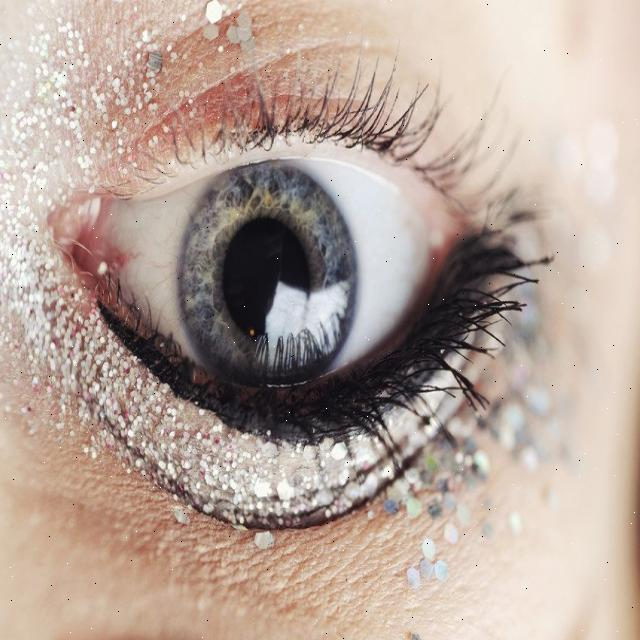Normal: (178, 157, 361, 404)
